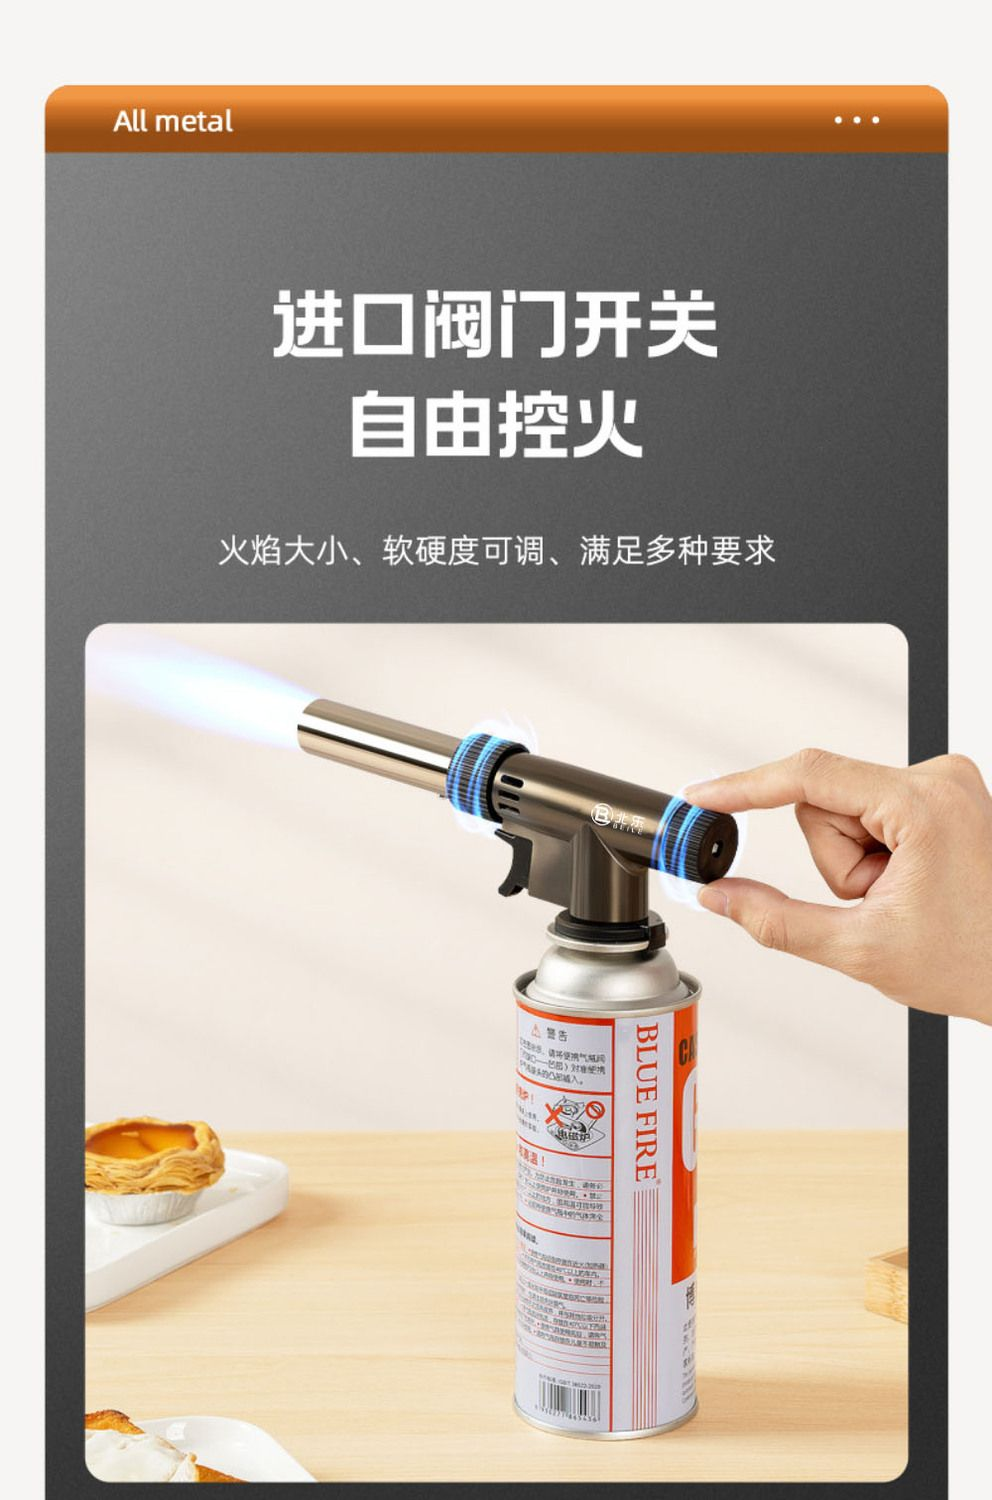gastorch: (294, 685, 737, 1440)
